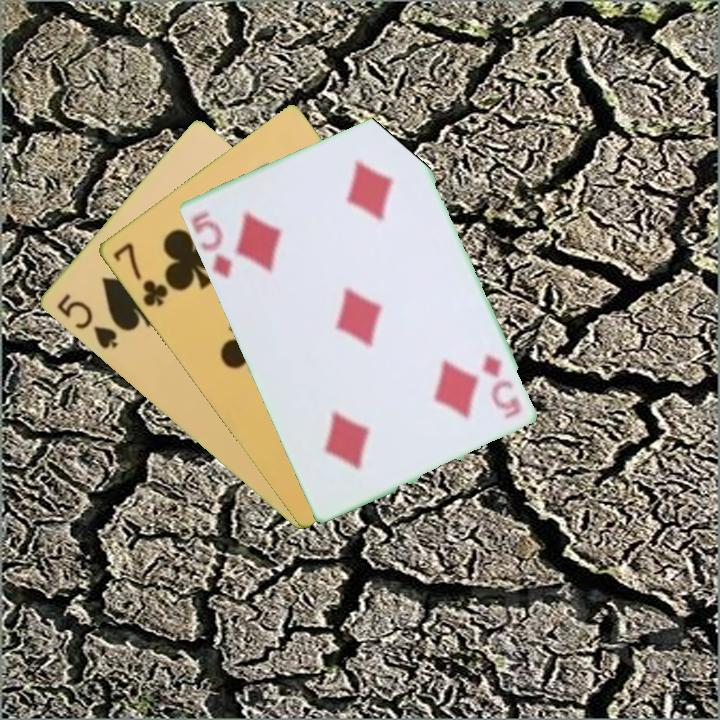5d: (186, 208, 235, 282), (478, 348, 524, 422)
5s: (52, 290, 121, 352)
7c: (108, 238, 171, 310)
